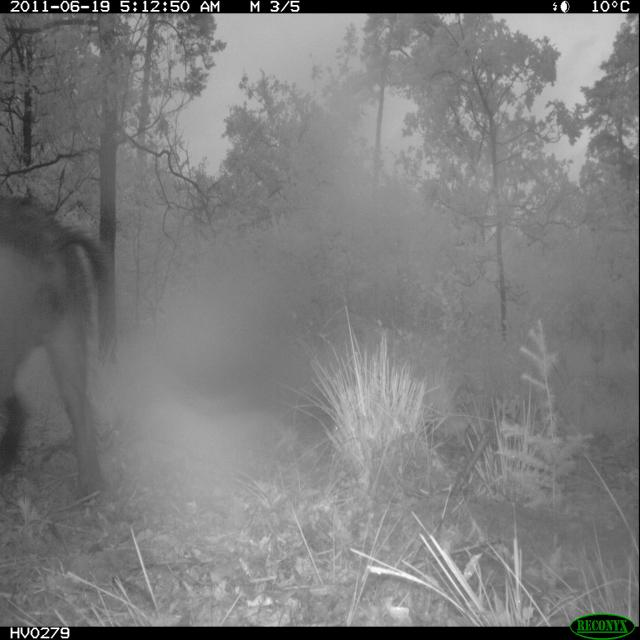boar: (0, 169, 150, 522)
